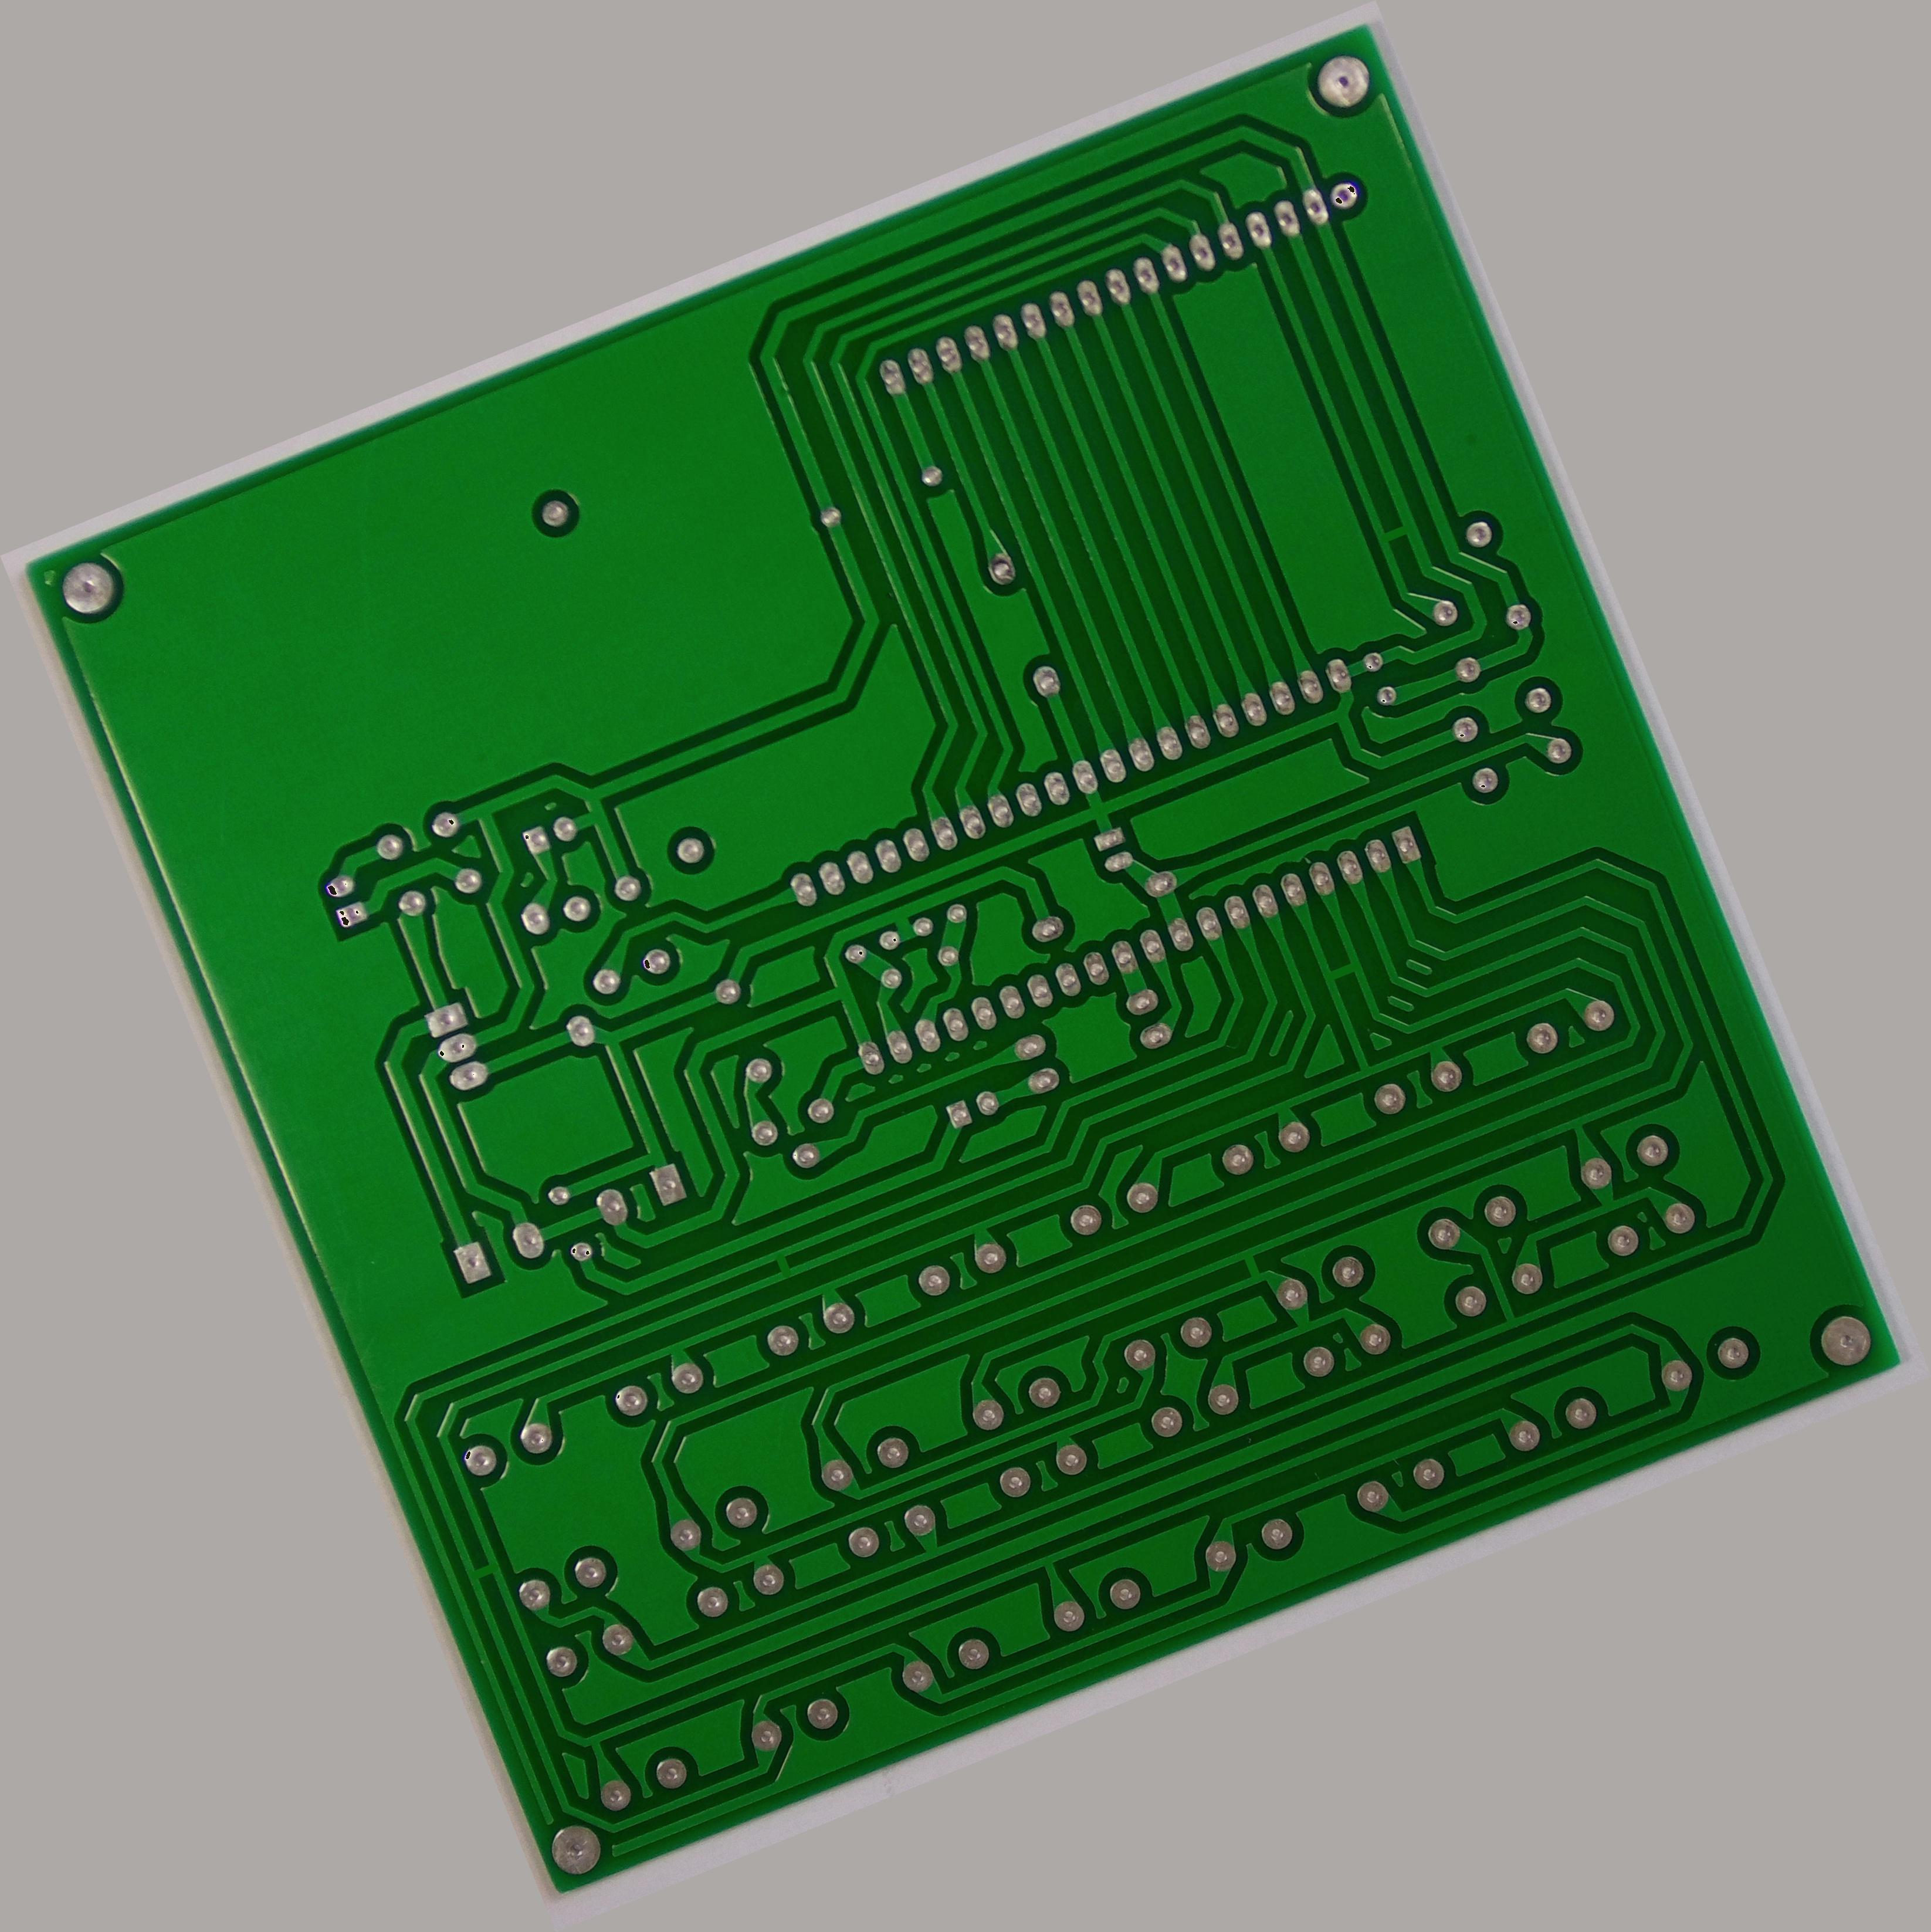short: (1309, 945, 1376, 1001), (454, 1543, 513, 1596), (1367, 506, 1423, 557), (1227, 1240, 1277, 1293), (759, 1237, 803, 1286)
